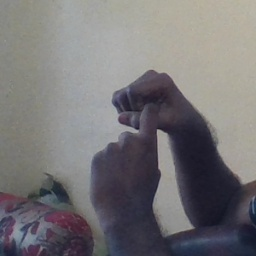Q: (88, 68, 195, 201)
